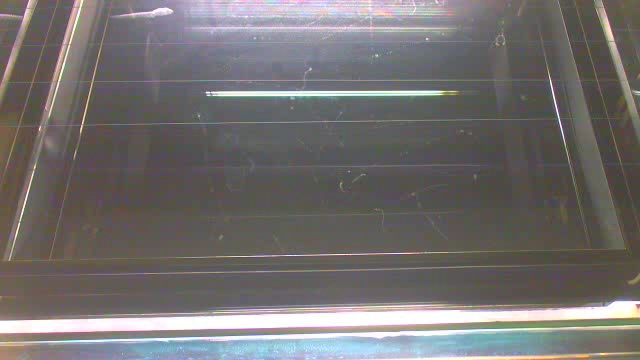Alfa: (107, 7, 175, 21)
